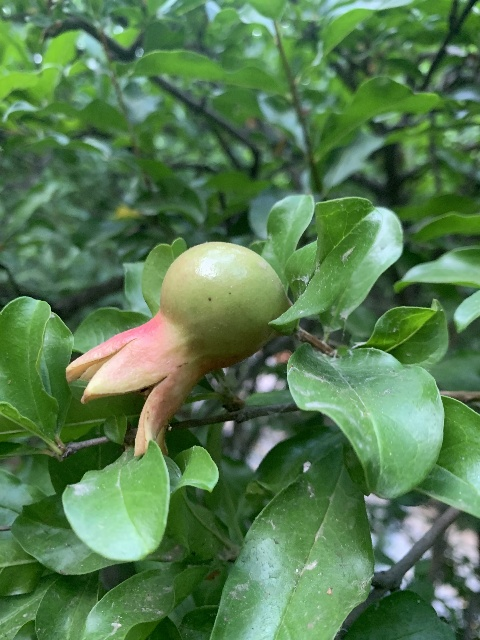mid-growth: (66, 240, 289, 459)
